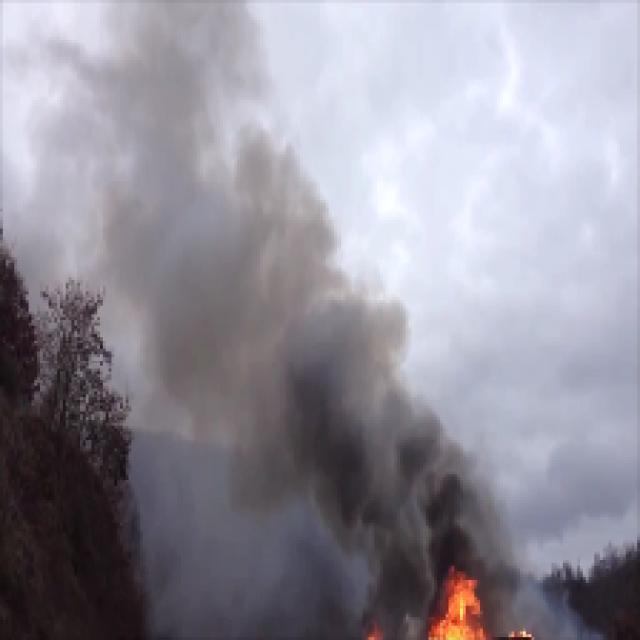smoke: (28, 5, 281, 332), (228, 336, 454, 550)
